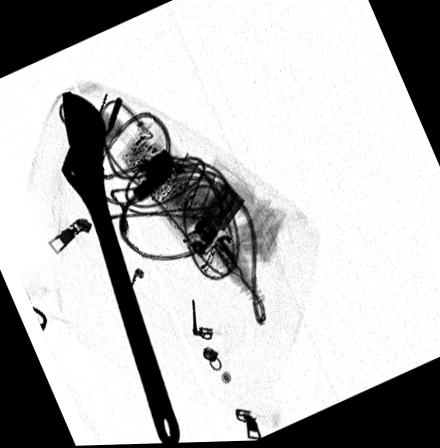Wrench: (59, 91, 183, 444)
